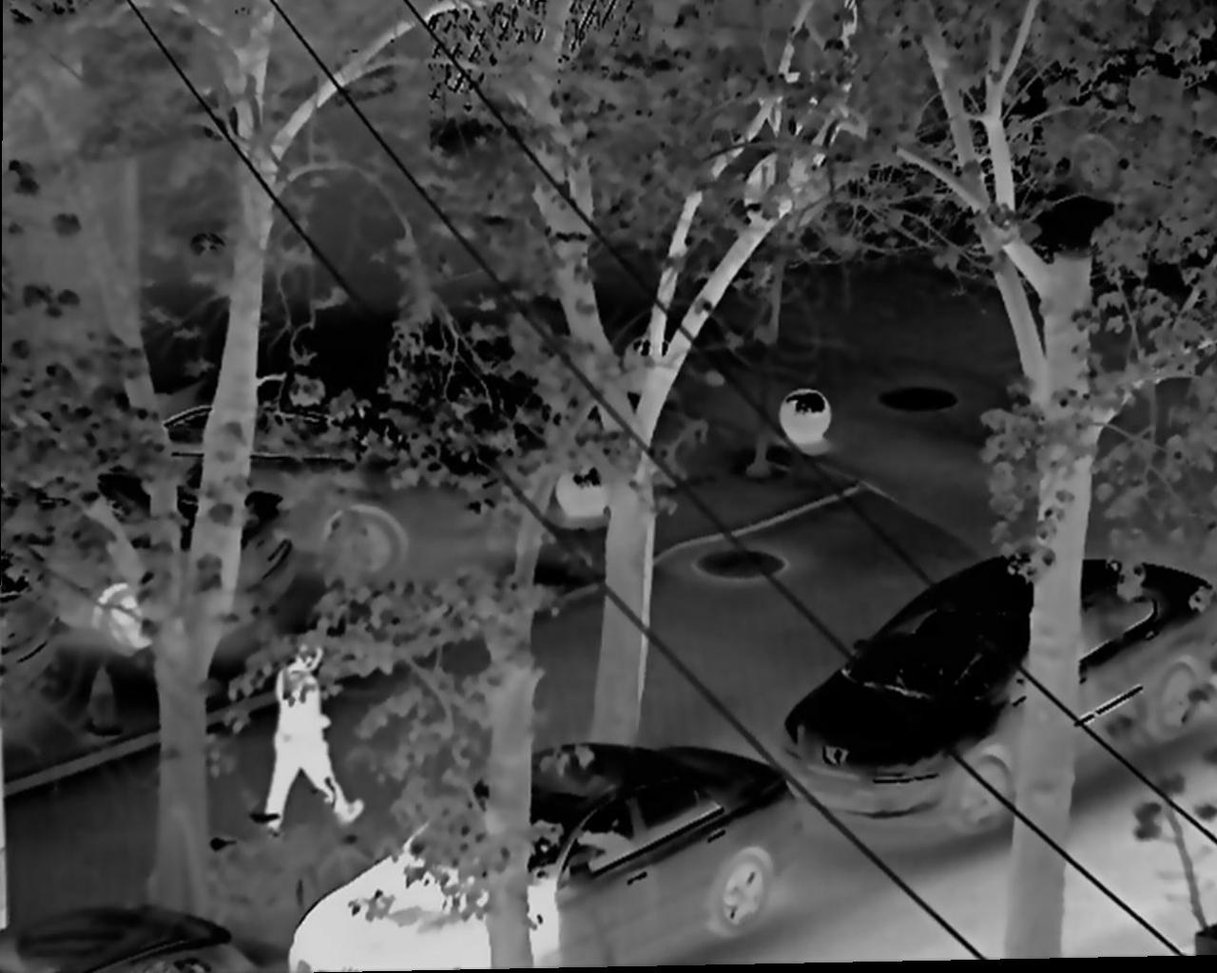person: (265, 662, 366, 832)
